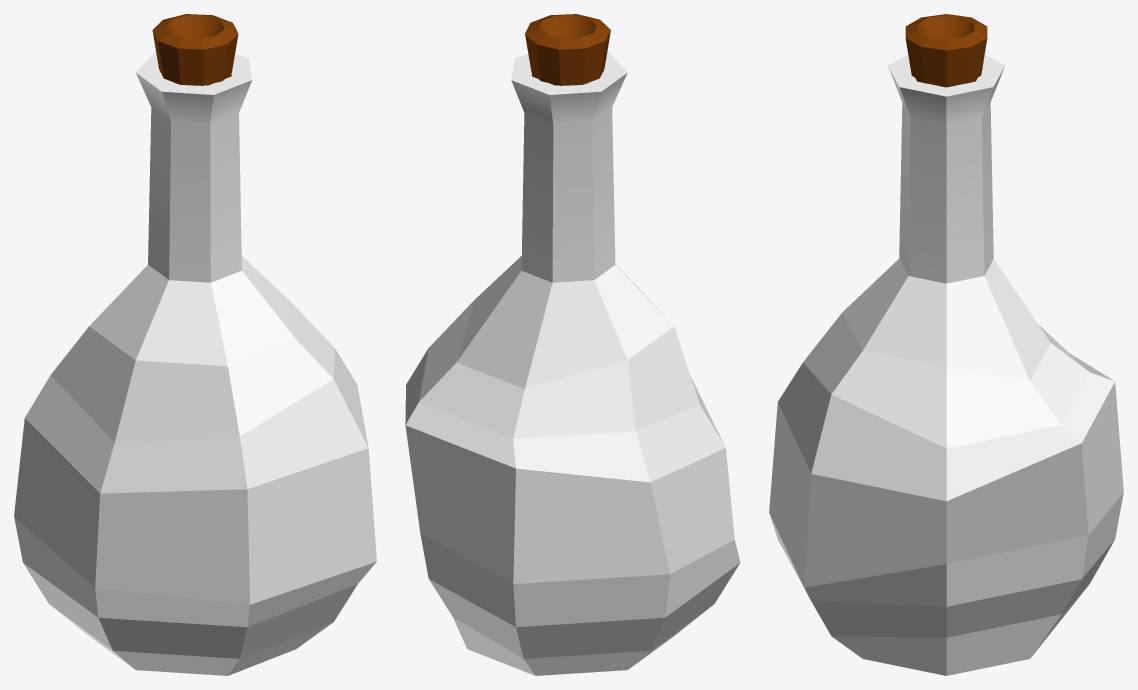
File: PotionRouge.fbx
3 renders of one model, left to right at view 1: azimuth 30°, elevation 25°; view 2: azimuth 150°, elevation 25°; view 3: azimuth 270°, elevation 25°, orthographic.
Visible parts, largest first — view 1: pCylinder7; view 2: pCylinder7; view 3: pCylinder7.
Boxes of the visible parts, x1,y1,x2,y2 form: pCylinder7: [14, 14, 376, 675]; pCylinder7: [405, 14, 740, 675]; pCylinder7: [769, 14, 1123, 675].
Size of the model in its own units: 2.1 by 4.02 by 2.14.
